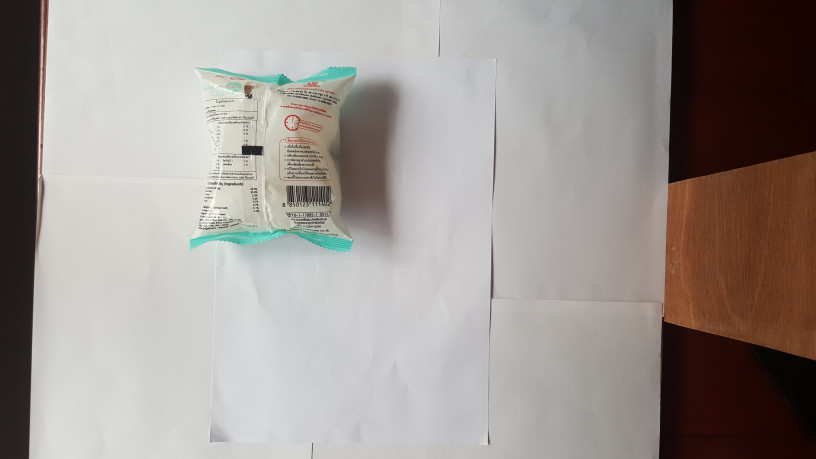farmhouse-sweetsandwich-chocolate: (185, 63, 355, 257)
